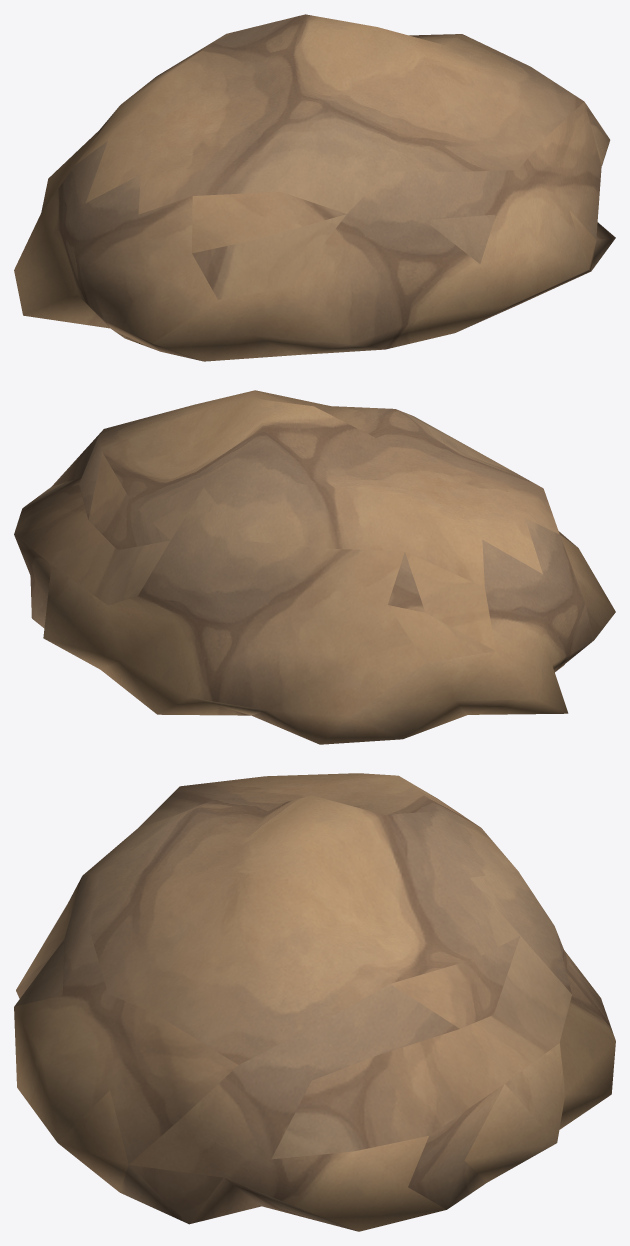
The model's file is boulder_large.gltf.
3 views of the same model, one above another, from view 1: azimuth 30°, elevation 25°; view 2: azimuth 150°, elevation 25°; view 3: azimuth 270°, elevation 25° (orthographic). The views are drawn at different scales.
Visible parts, largest first — view 1: boulder_large; view 2: boulder_large; view 3: boulder_large.
Boxes of the visible parts, x1,y1,x2,y2 form: boulder_large: (14, 14, 615, 361); boulder_large: (14, 390, 615, 744); boulder_large: (14, 773, 615, 1231).
Bounding box in the file's own units: 3.61 × 1.4 × 2.74.
Materials: 1 (1 with a texture image).
